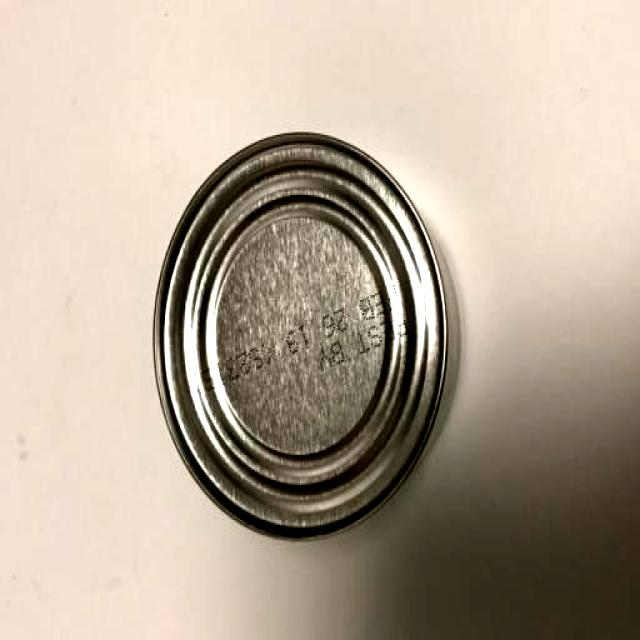Metal: (150, 131, 452, 545)
